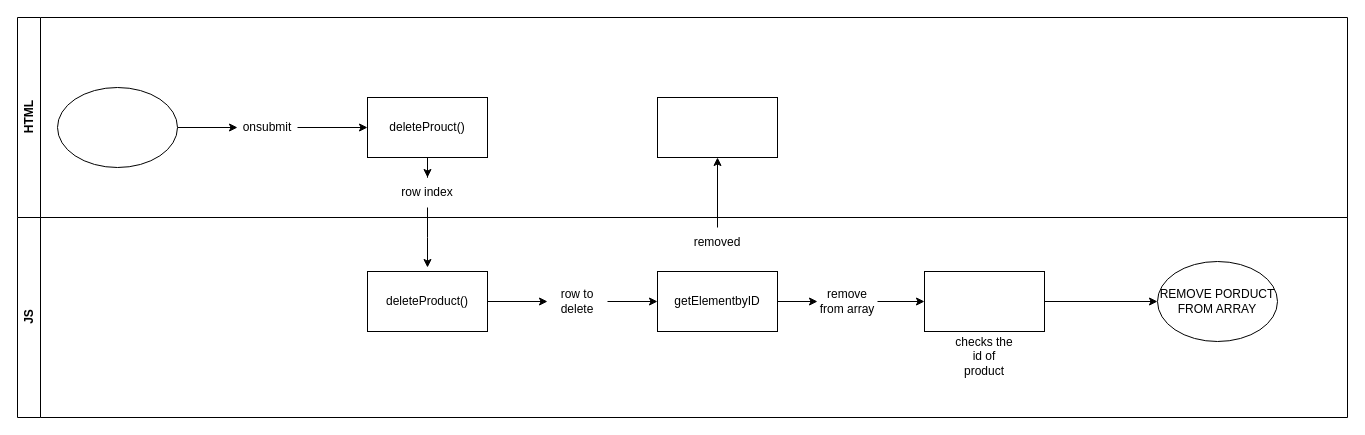
Some shapes in this 1365 by 435 pixel diagram are drawn without their labels. Here are the shapes that lost their labels. From the top down, the centre of each, then its label:
At point (117, 127): "DELETE BUTTON".
At point (717, 127): "ROW REMOVED FROM UI".
At point (984, 301): "findIndex()".
